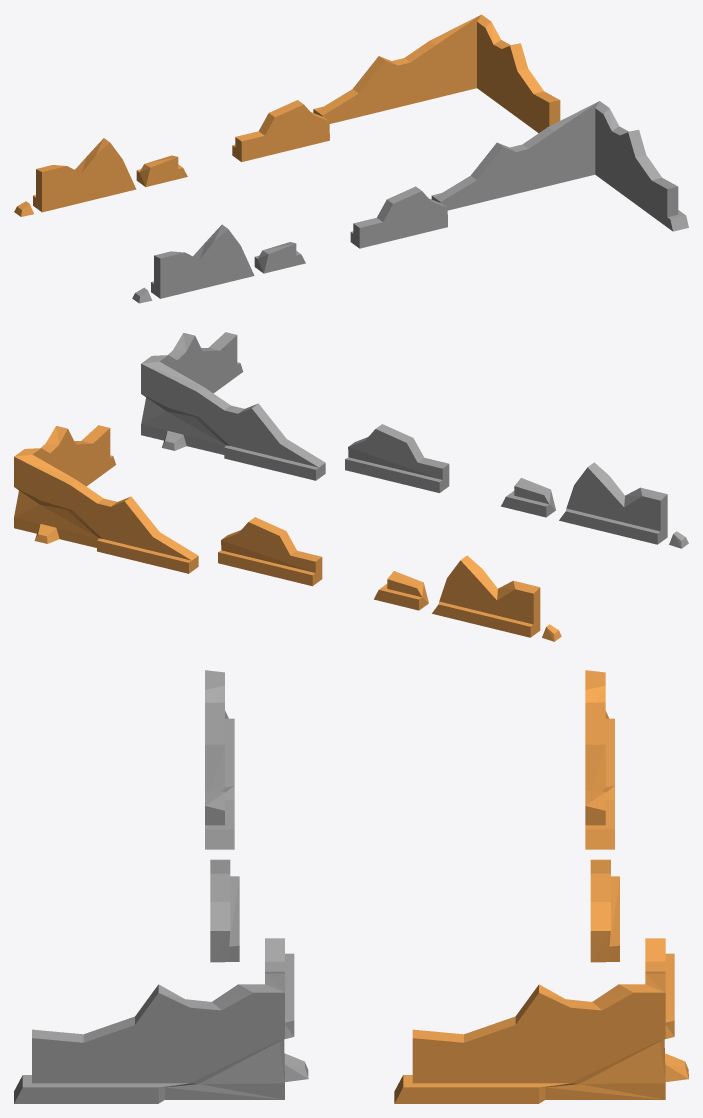
File: WallDamaged.FBX
3 renders of one model, top to bottom at view 1: azimuth 30°, elevation 25°; view 2: azimuth 150°, elevation 25°; view 3: azimuth 270°, elevation 25°, orthographic. The views are drawn at different scales.
Parts seen in each view (by area): view 1: wall_damaged_white_01, wall_damaged_brown_01, wall_damaged_white_03, wall_damaged_brown_03, wall_damaged_white_02, wall_damaged_brown_02; view 2: wall_damaged_white_01, wall_damaged_brown_01, wall_damaged_brown_03, wall_damaged_white_03, wall_damaged_white_02, wall_damaged_brown_02; view 3: wall_damaged_brown_01, wall_damaged_white_01, wall_damaged_brown_03, wall_damaged_white_03, wall_damaged_white_02, wall_damaged_brown_02.
Part boxes in pixels (x1,y1,x2,y2): wall_damaged_white_01: (431, 101, 688, 231); wall_damaged_brown_01: (313, 14, 560, 133); wall_damaged_white_03: (132, 224, 305, 303); wall_damaged_brown_03: (14, 138, 187, 216); wall_damaged_white_02: (350, 186, 447, 248); wall_damaged_brown_02: (232, 100, 329, 161); wall_damaged_white_01: (141, 332, 325, 480); wall_damaged_brown_01: (14, 425, 198, 573); wall_damaged_brown_03: (374, 555, 561, 641); wall_damaged_white_03: (501, 462, 688, 548); wall_damaged_white_02: (345, 424, 449, 492); wall_damaged_brown_02: (218, 517, 322, 586); wall_damaged_brown_01: (394, 938, 688, 1103); wall_damaged_white_01: (14, 938, 308, 1103); wall_damaged_brown_03: (585, 670, 614, 849); wall_damaged_white_03: (205, 670, 234, 849); wall_damaged_white_02: (210, 859, 239, 962); wall_damaged_brown_02: (590, 859, 619, 962).
Size of what is drawn, in the model's own units: 1437 by 186 by 1064.
